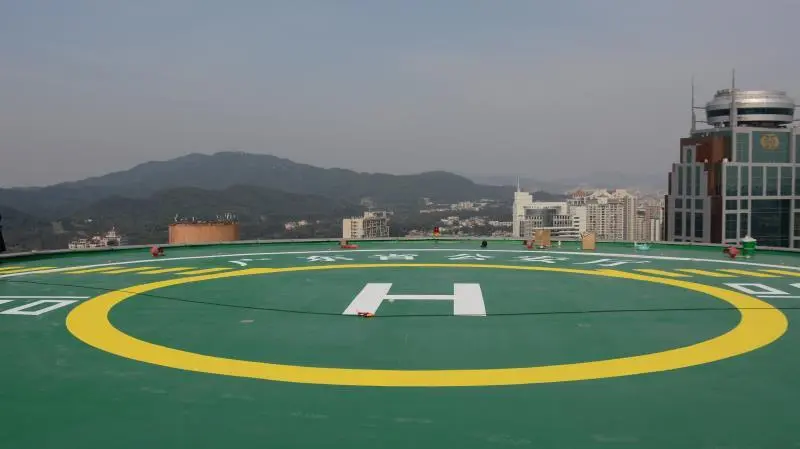Apron: (64, 262, 790, 387)
